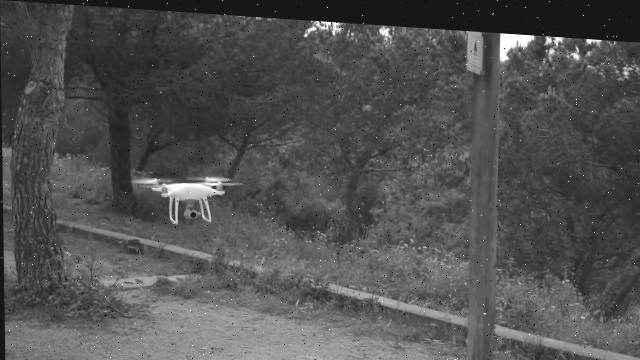drone: (130, 166, 244, 225)
